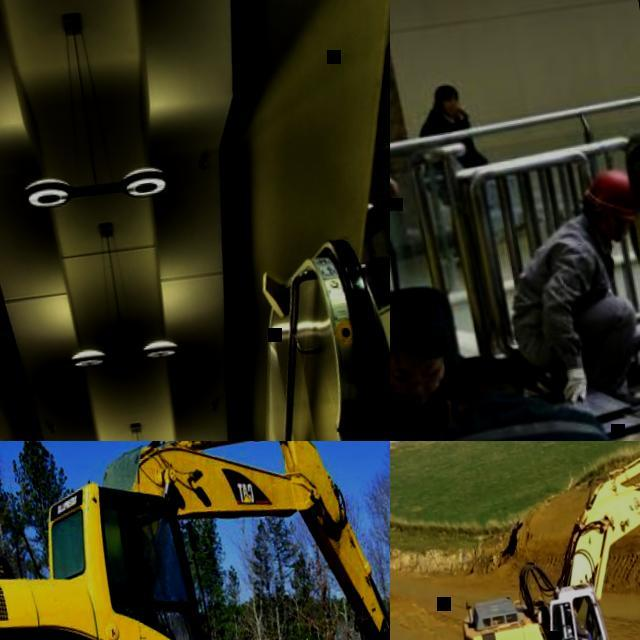helmet: (579, 167, 635, 221)
